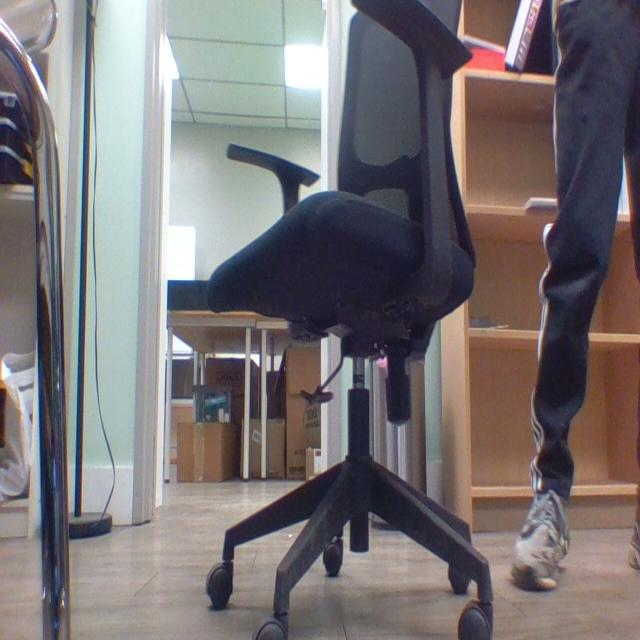black-chair: (189, 0, 499, 639)
